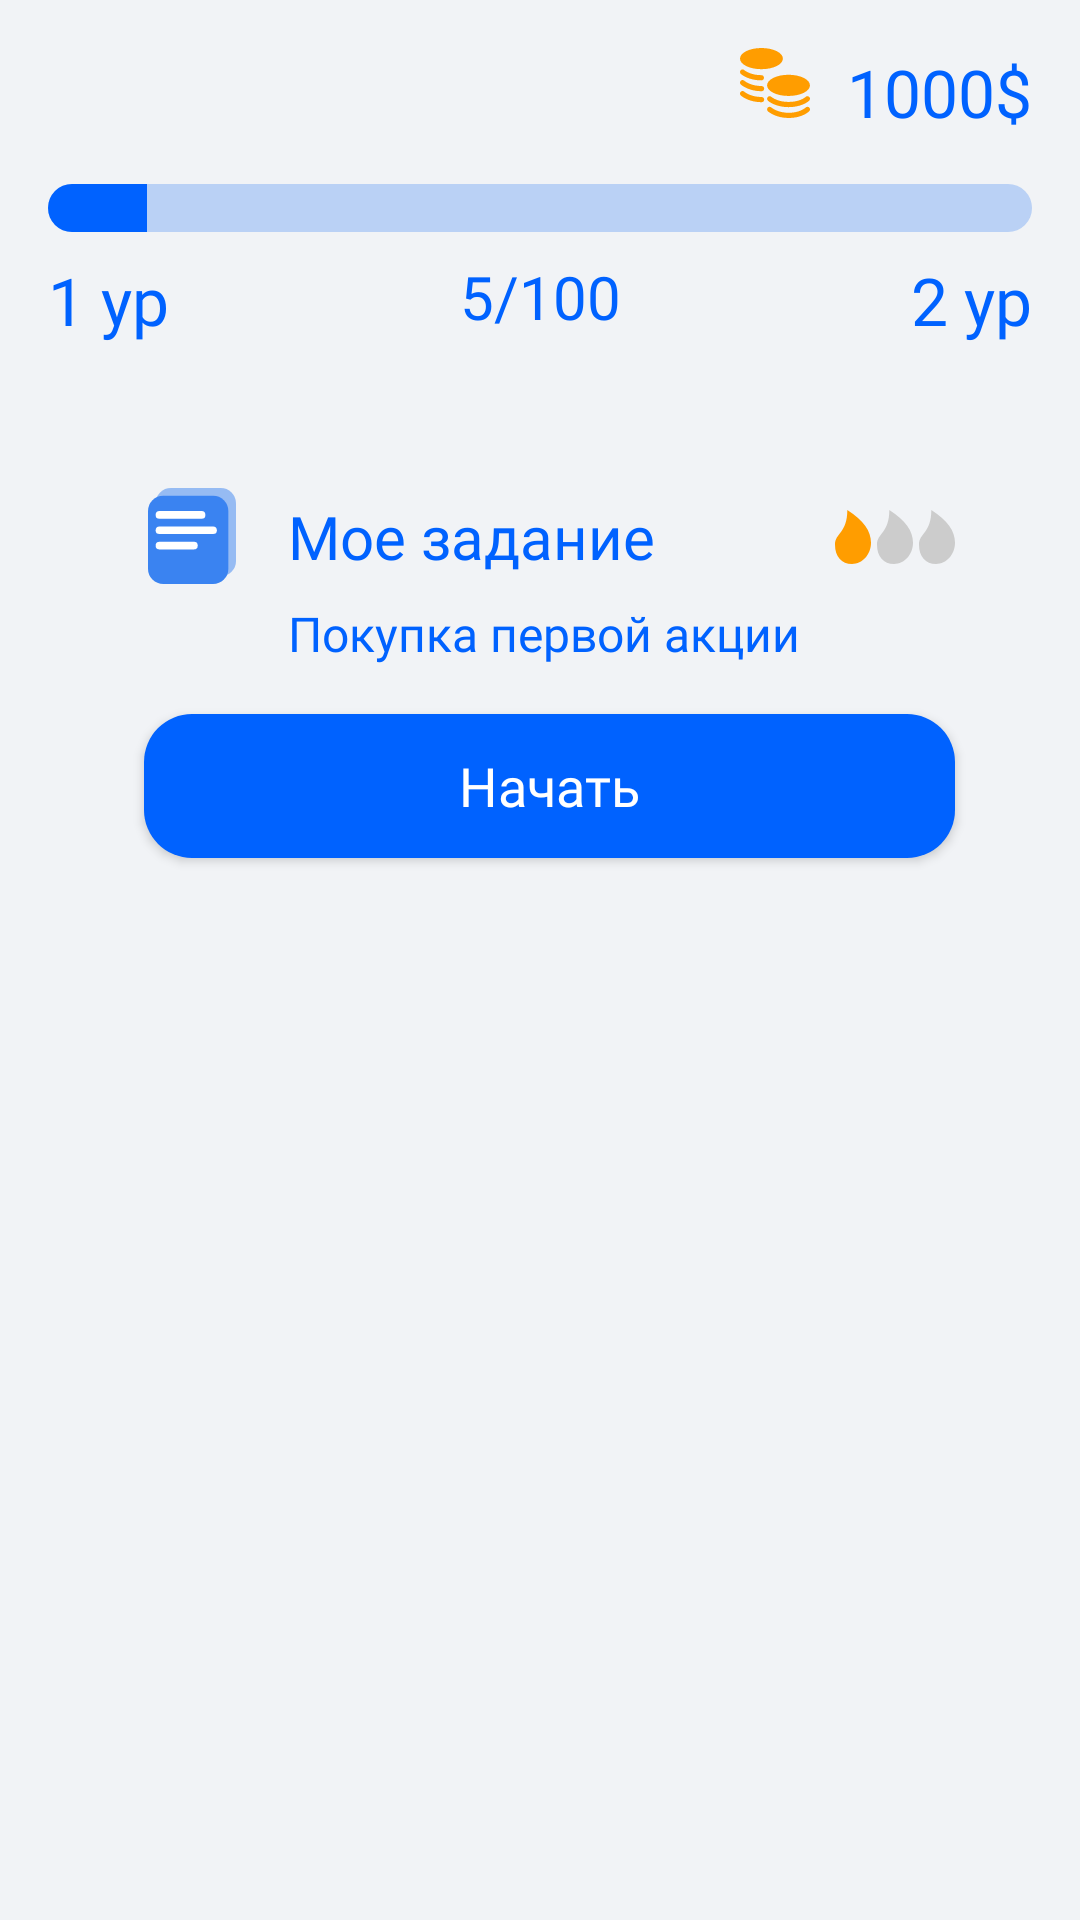

Icon click points for this 1080 x 1920 phone screenshot, format point (x, y):
coins: point (775, 83)
